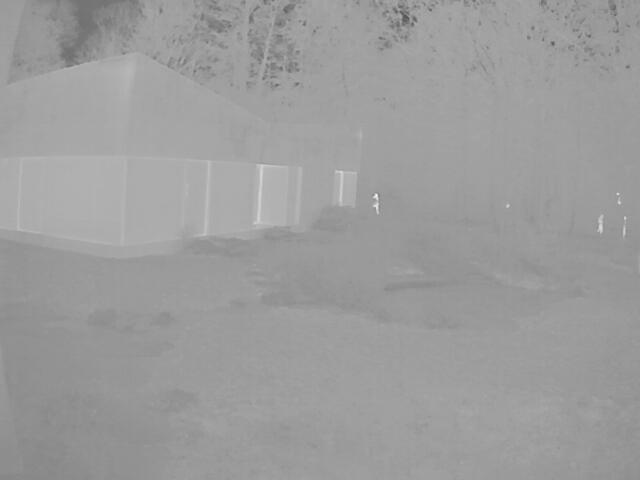person: (594, 214, 604, 235), (371, 193, 380, 215)
